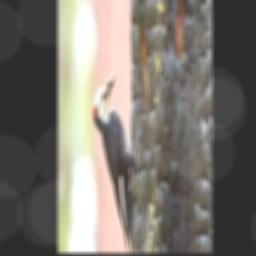Woodpecker: (94, 70, 140, 253)
